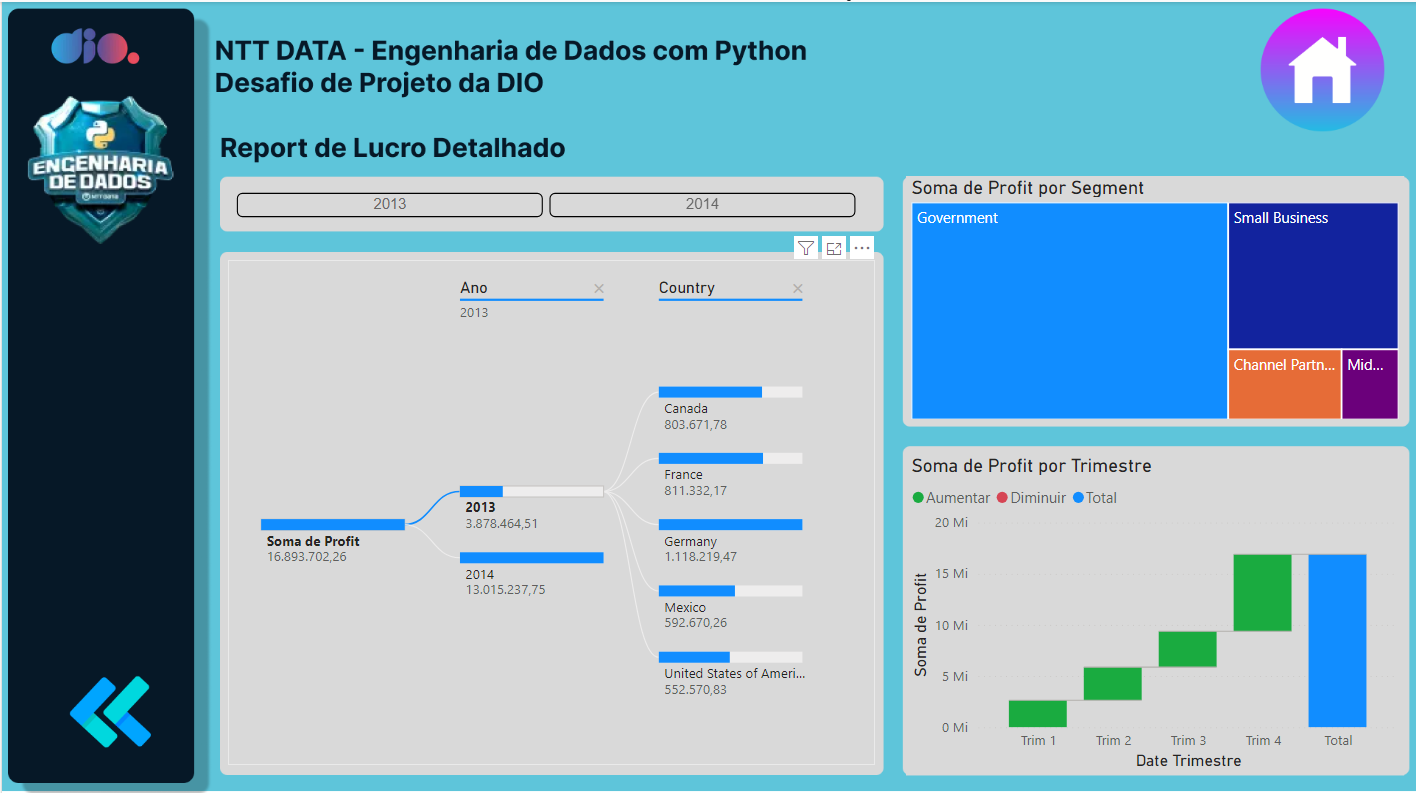

The page's visual inventory and layout, read from the dashboard file:
{"tool":"powerbi","page":{"name":"Profit","canvas":[1280,720],"ordinal":1},"visuals":[{"type":"decompositionTreeVisual","fields":{"Analyze":["Sum(financials.Profit)"],"ExplainBy":["financials.Date.Variation.Hierarquia de datas.Ano","financials.Country"]},"box":[204.6,233.6,585.7,457.1],"z":7000},{"type":"waterfallChart","fields":{"Category":["financials.Date.Variation.Hierarquia de datas.Trimestre"],"Y":["Sum(financials.Profit)"]},"box":[818.3,409.2,450.8,290.6],"z":8000},{"type":"ChicletSlicer1448559807354","fields":{"Category":["financials.Date.Variation.Hierarquia de datas.Ano"]},"box":[204.6,164.8,575.7,40.7],"z":9000},{"type":"treemap","fields":{"Values":["Sum(financials.Profit)"],"Group":["financials.Segment"]},"box":[818.3,157.5,450.8,225.4],"z":11000},{"type":"actionButton","box":[0,614.7,172.9,67],"z":13000},{"type":"actionButton","box":[1137.9,11.8,115,99.6],"z":13001}]}

Visuals, with their boxes in screenshot pixels (x1, y1, x2, y2), scaled from the page's 1280x720 canvas onto the 1416x793 screenshot:
decompositionTreeVisual - Sum(financials.Profit) x financials.Date.Variation.Hierarquia de datas.Ano: pyautogui.locateOnScreen(226, 257, 874, 761)
waterfallChart - financials.Date.Variation.Hierarquia de datas.Trimestre x Sum(financials.Profit): pyautogui.locateOnScreen(905, 451, 1404, 771)
ChicletSlicer1448559807354 - financials.Date.Variation.Hierarquia de datas.Ano: pyautogui.locateOnScreen(226, 182, 863, 226)
treemap - Sum(financials.Profit) x financials.Segment: pyautogui.locateOnScreen(905, 173, 1404, 422)
actionButton: pyautogui.locateOnScreen(0, 677, 191, 751)
actionButton: pyautogui.locateOnScreen(1259, 13, 1386, 123)
